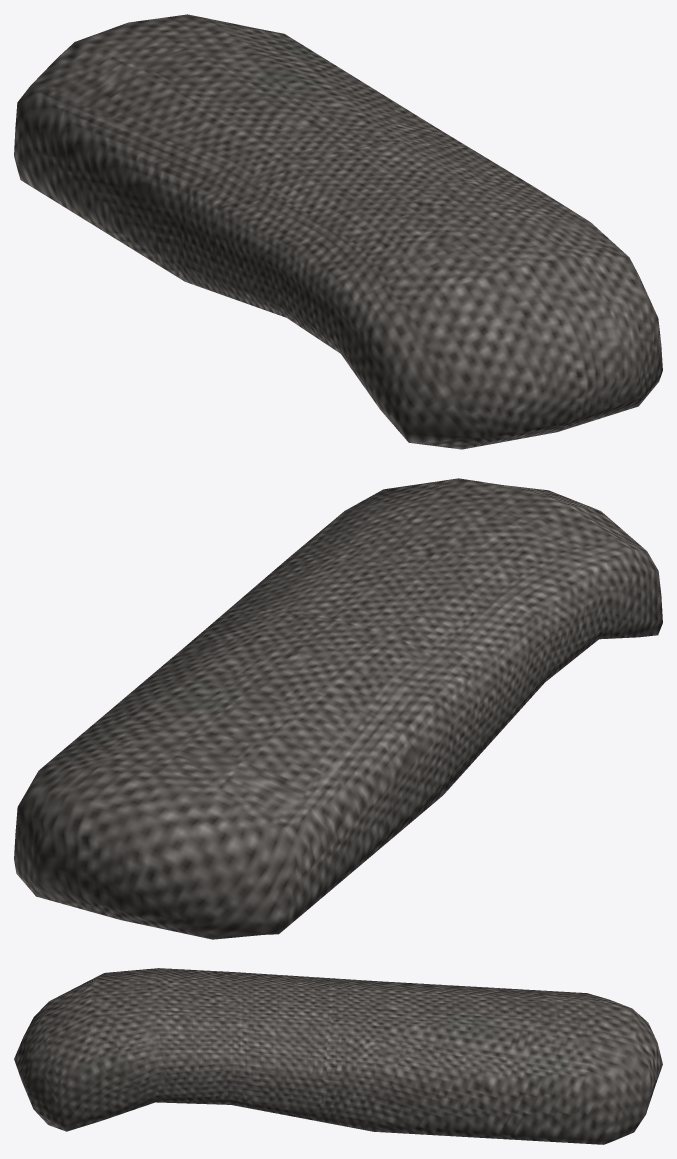
The picture shows the model from 3 angles, top to bottom: view 1: azimuth 30°, elevation 25°; view 2: azimuth 150°, elevation 25°; view 3: azimuth 270°, elevation 25°; orthographic projection. The views are drawn at different scales.
Parts seen in each view (by area): view 1: part2:armrest 2; view 2: part2:armrest 2; view 3: part2:armrest 2.
Part boxes in pixels (bbox=[...]): part2:armrest 2: bbox=[14, 14, 662, 449]; part2:armrest 2: bbox=[14, 478, 662, 939]; part2:armrest 2: bbox=[14, 968, 662, 1144].
Bounding box in the file's own units: 0.08 × 0.0455 × 0.2402.
1 material, 1 textured.
